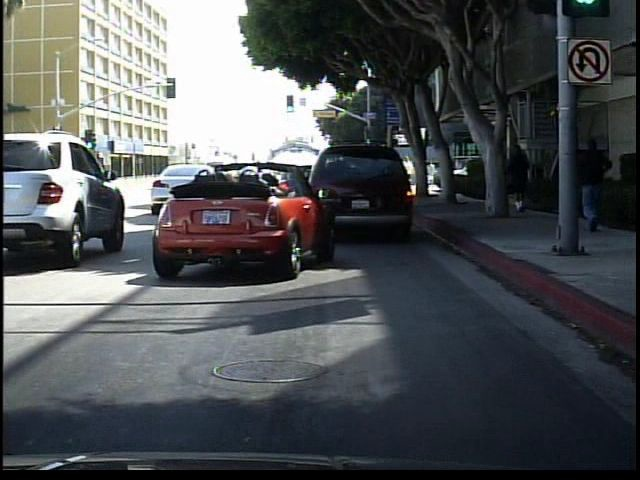person: (574, 132, 622, 239), (503, 141, 534, 214)
